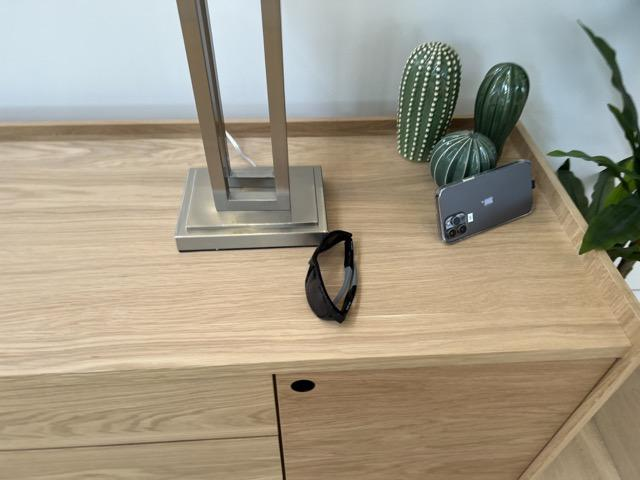Sunglasses: (304, 229, 359, 326)
